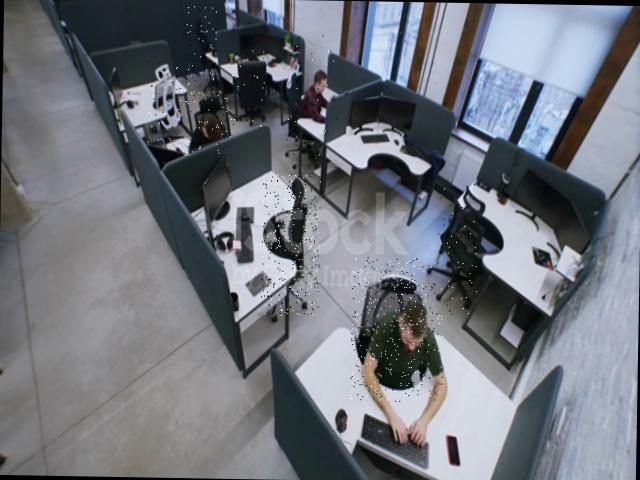empty chair: (260, 171, 322, 316), (438, 182, 480, 316), (230, 47, 268, 129), (146, 59, 181, 145), (186, 5, 218, 88)
occupiedchair: (350, 256, 445, 402), (284, 34, 338, 170), (184, 91, 232, 158)
